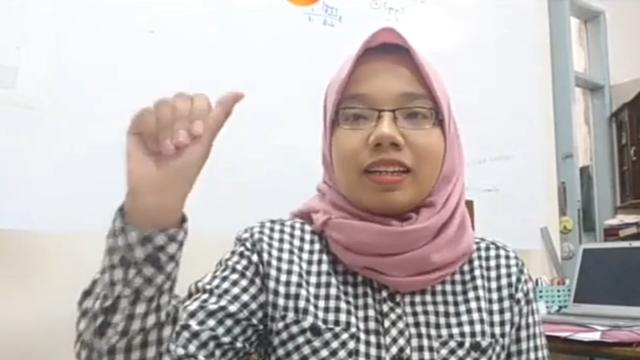A: (124, 85, 246, 185)
